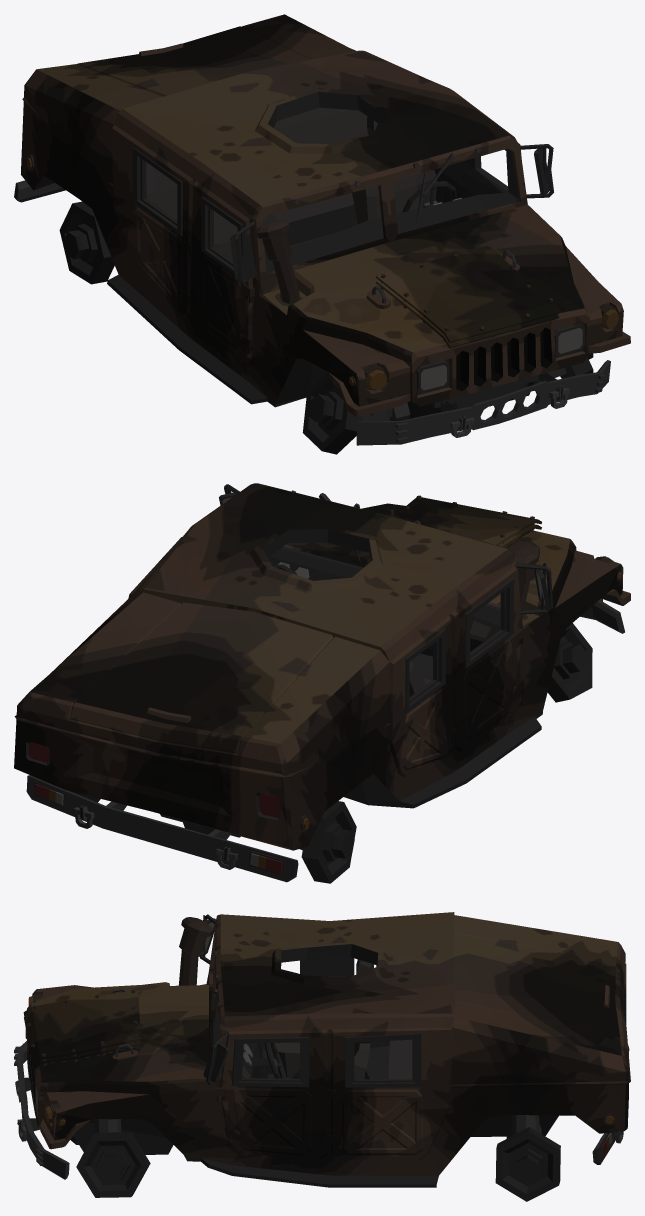
Rendered from SM_Veh_Light_Armored_Car_01_Destroyed.fbx.
The picture shows the model from 3 angles, top to bottom: view 1: azimuth 30°, elevation 25°; view 2: azimuth 150°, elevation 25°; view 3: azimuth 270°, elevation 25°; orthographic projection. The views are drawn at different scales.
Visible parts, largest first — view 1: SM_Veh_Light_Armored_Car_01_Destroyed; view 2: SM_Veh_Light_Armored_Car_01_Destroyed; view 3: SM_Veh_Light_Armored_Car_01_Destroyed.
Part boxes in pixels (box(x1,y1,x2,y2)): SM_Veh_Light_Armored_Car_01_Destroyed: box(14, 14, 630, 454); SM_Veh_Light_Armored_Car_01_Destroyed: box(14, 483, 630, 883); SM_Veh_Light_Armored_Car_01_Destroyed: box(14, 912, 630, 1201).
Size of the model in its own units: 248 by 158 by 466.
